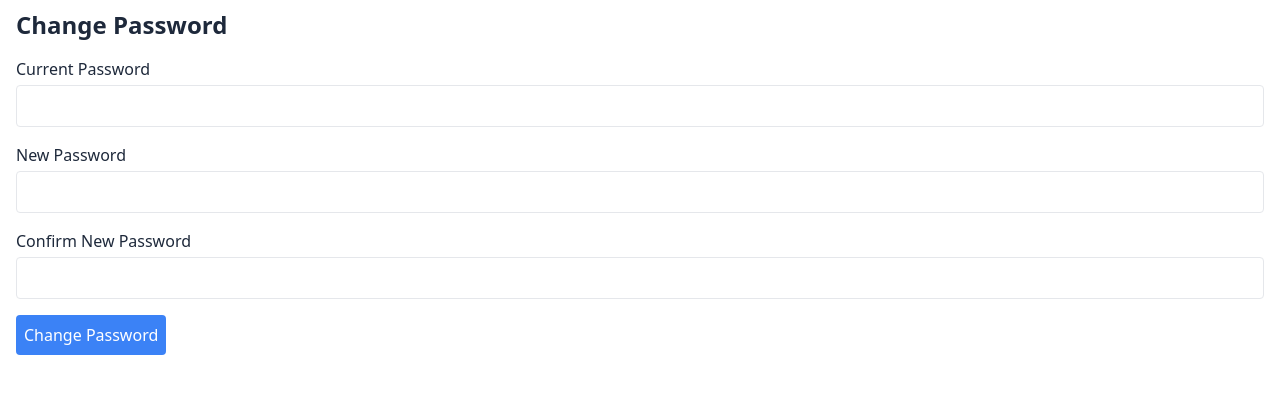
ChangePasswordPage › should show validation error for weak new password
Type "CurrentPassword123!" into the password field labelled "Current Password" at (640, 106), box x1=16 y1=85 x2=1264 y2=127
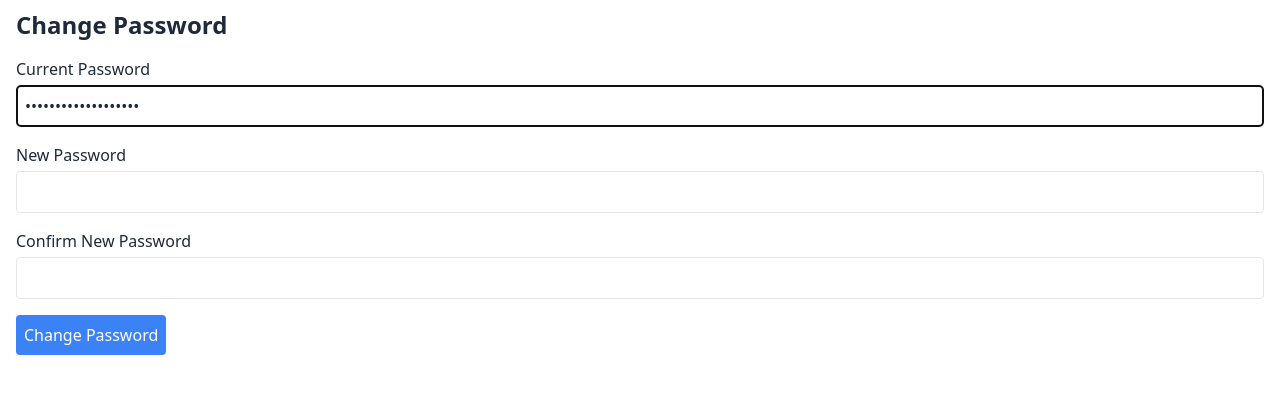
Type "weak" into the password field labelled "New Password" at (640, 192), box x1=16 y1=171 x2=1264 y2=213
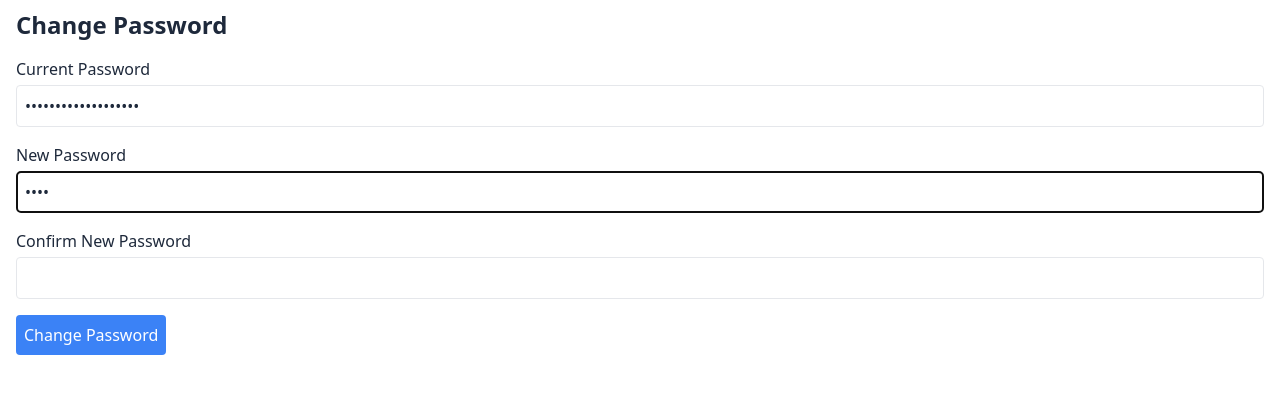
Type "weak" into the password field labelled "Confirm New Password" at (640, 278), box x1=16 y1=257 x2=1264 y2=299
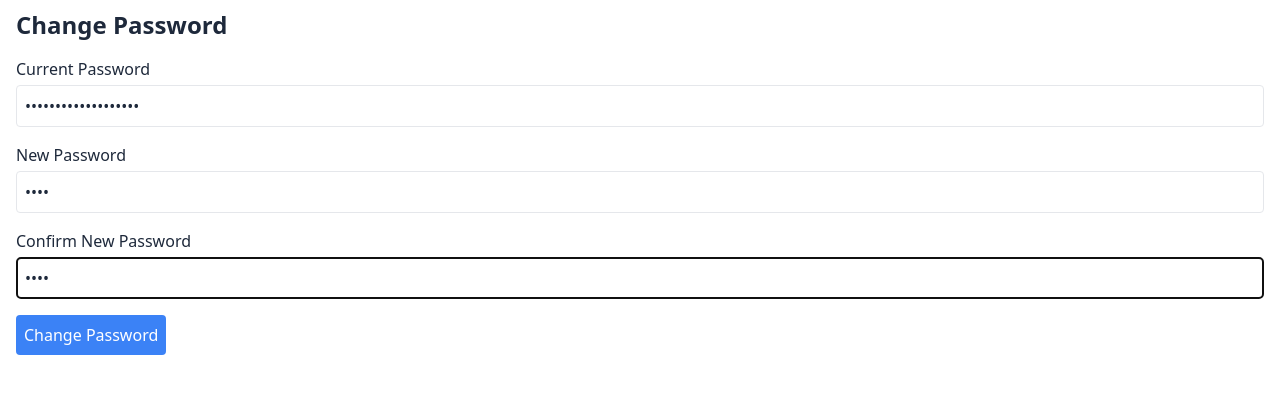
Click the button "Change Password" at (91, 335), box x1=16 y1=315 x2=166 y2=355
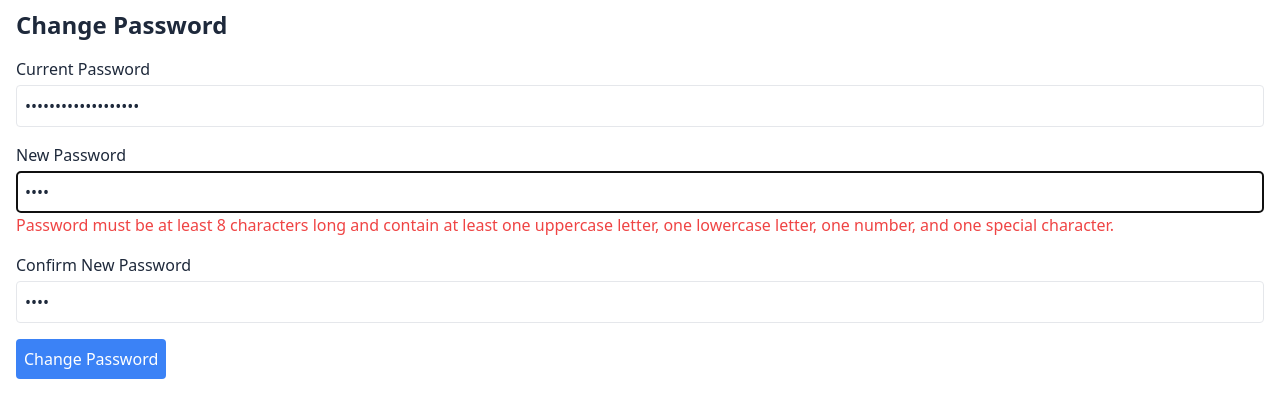
Expected: the text "Password must be at least 8 characters long and contain at least one uppercase letter, one lowercase letter, one number," is shown, x1=16 y1=214 x2=1114 y2=236
